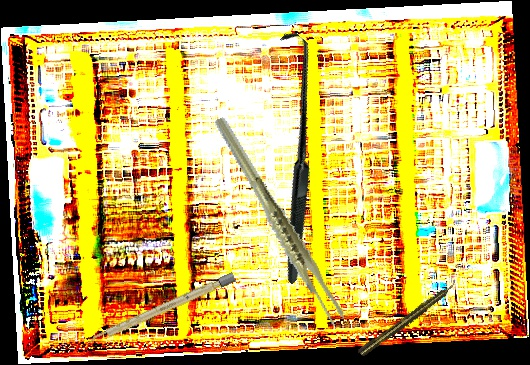Handpiece: (356, 278, 461, 359)
Hook Surgical: (163, 27, 420, 285)
Scalpel Handle: (86, 272, 237, 346)
Tissue Forceps: (212, 101, 348, 341)
